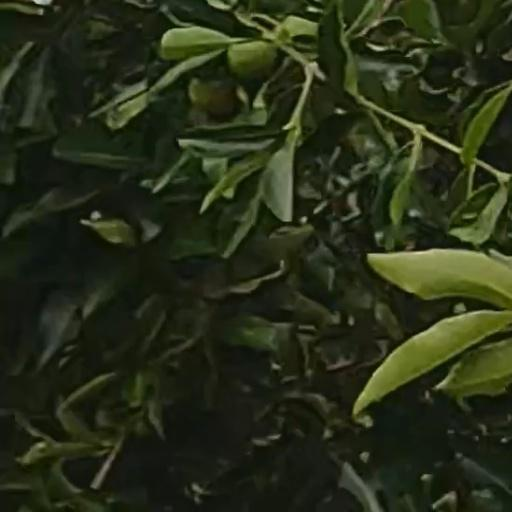acerola: (228, 45, 276, 72)
